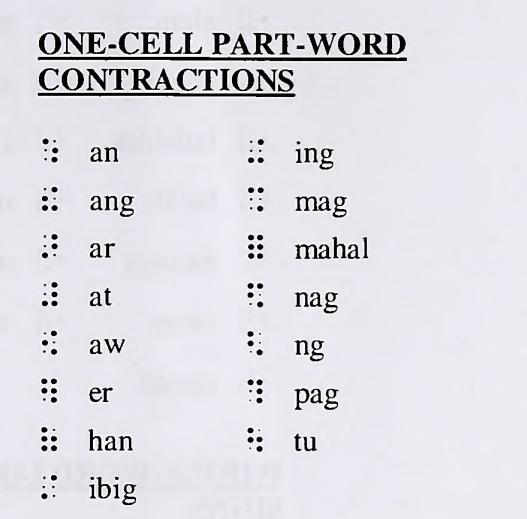an: (42, 138, 57, 161)
ang: (41, 186, 59, 211)
ar: (41, 233, 58, 259)
at: (41, 282, 59, 309)
aw: (41, 330, 58, 355)
er: (39, 378, 58, 404)
han: (41, 426, 57, 454)
ibig: (40, 475, 56, 500)
ing: (249, 138, 264, 165)
mag: (248, 186, 265, 211)
mahal: (246, 233, 264, 260)
nag: (248, 283, 264, 308)
ng: (246, 331, 263, 356)
pag: (247, 378, 263, 405)
tu: (246, 426, 262, 453)
